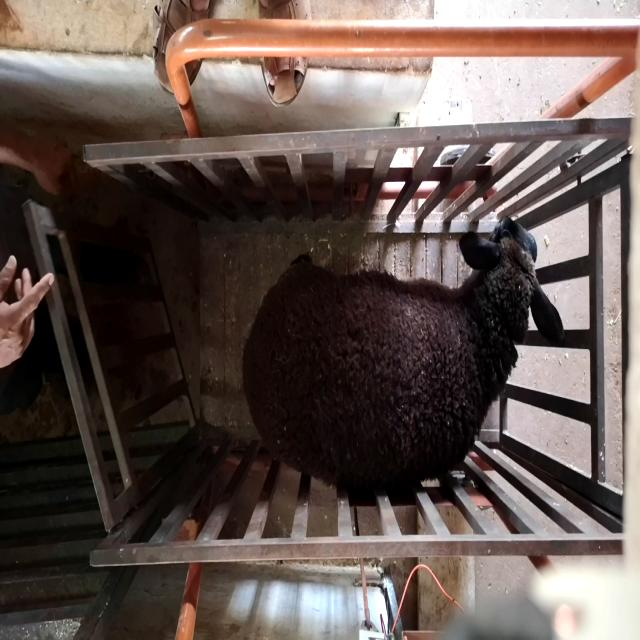sheep: (241, 217, 565, 489)
